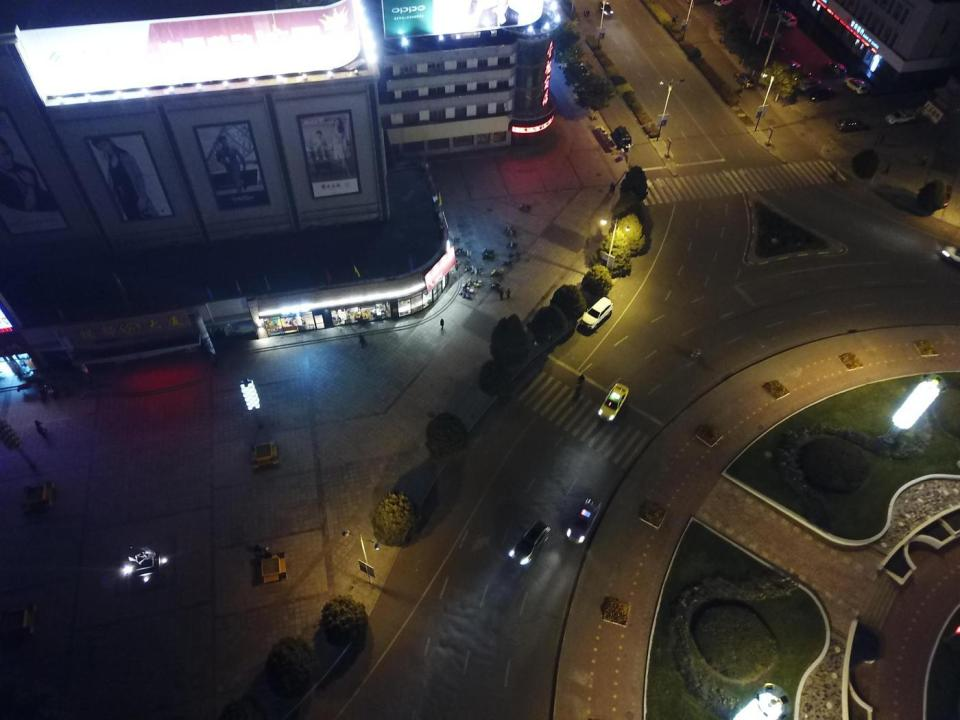car: (507, 521, 550, 565), (566, 498, 600, 542), (597, 383, 629, 420), (885, 110, 915, 124), (845, 78, 869, 94), (838, 118, 862, 132), (573, 57, 589, 77), (734, 72, 754, 88), (810, 88, 834, 101), (828, 61, 848, 75), (798, 78, 820, 90), (599, 1, 613, 18), (783, 60, 801, 71), (790, 70, 812, 78), (773, 43, 785, 52), (756, 29, 767, 36)
van: (580, 296, 612, 328), (613, 125, 632, 149), (778, 11, 796, 27), (714, 0, 734, 7)
